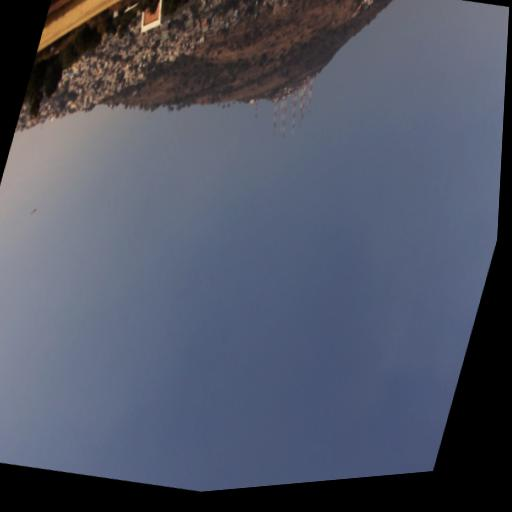drones: (31, 206, 39, 216)
